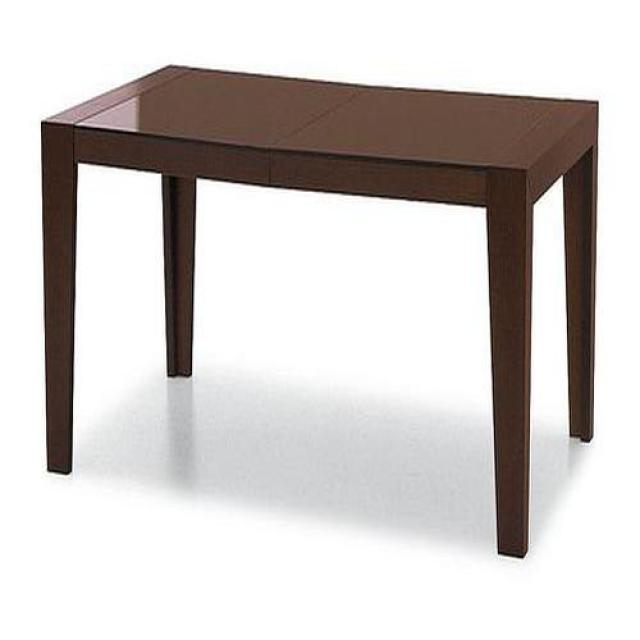table: (42, 68, 599, 558)
